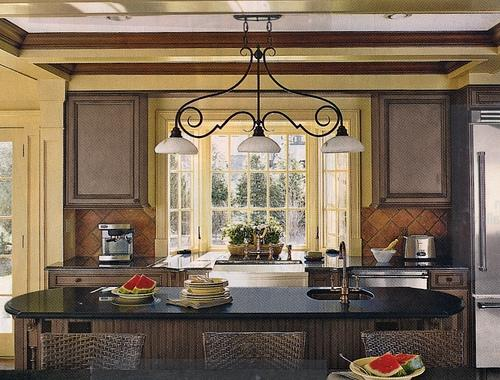watermelon: (364, 352, 406, 374), (393, 353, 424, 375), (119, 274, 140, 294)
